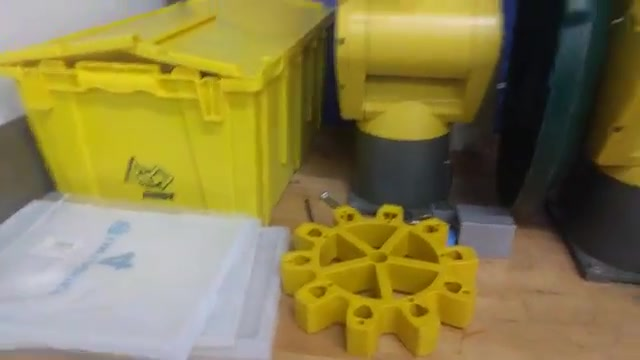gear: (275, 196, 478, 360)
